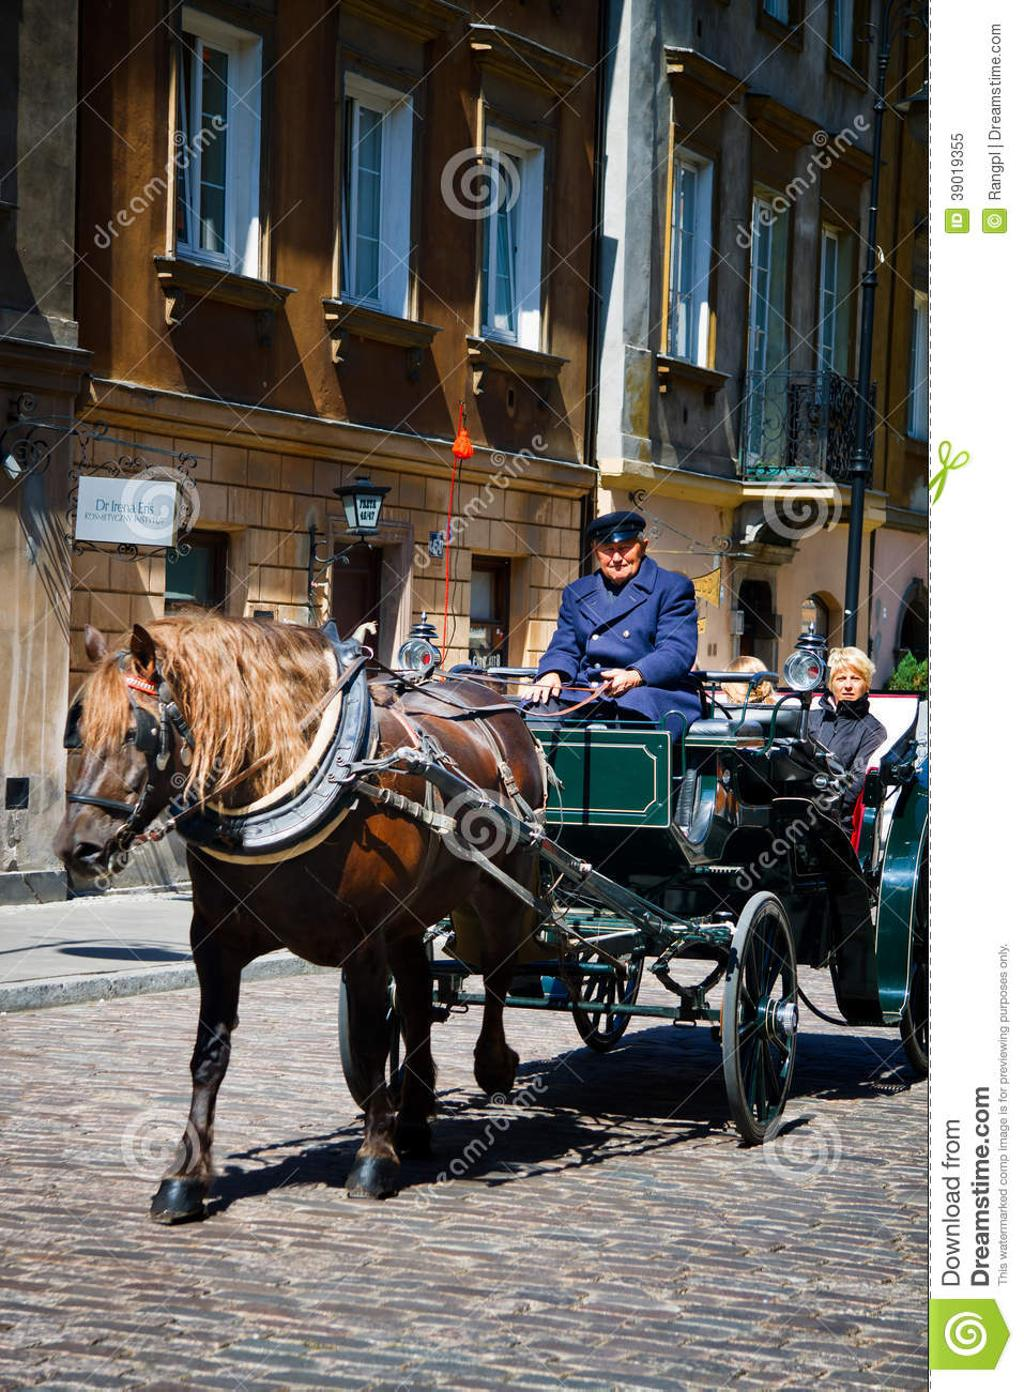face: (596, 538, 639, 578), (830, 663, 867, 704)
